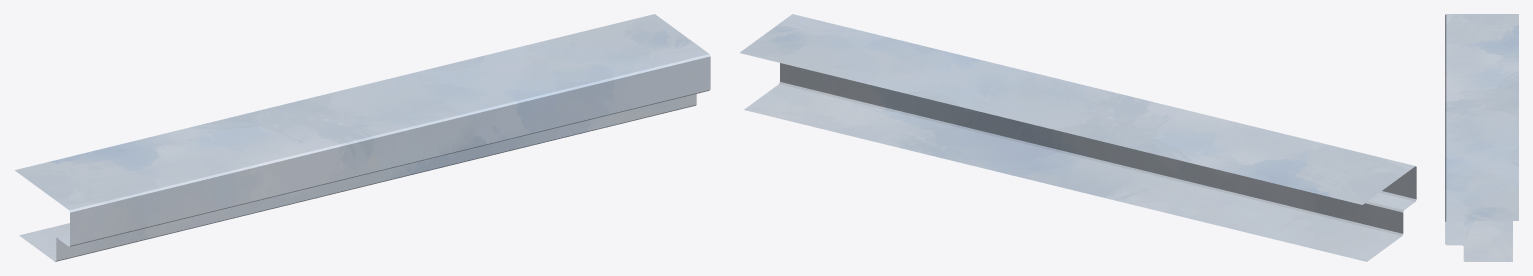
Rendered from Frame top.fbx.
The picture shows the model from 3 angles, left to right: view 1: azimuth 30°, elevation 25°; view 2: azimuth 150°, elevation 25°; view 3: azimuth 270°, elevation 25°; orthographic projection. The views are drawn at different scales.
Parts seen in each view (by area): view 1: Frame top; view 2: Frame top; view 3: Frame top.
Part boxes in pixels (x1,y1,x2,y2): Frame top: (15,14,710,261); Frame top: (740,14,1416,261); Frame top: (1445,14,1518,261).
Size of the model in its own units: 200 by 18.46 by 30.1.
